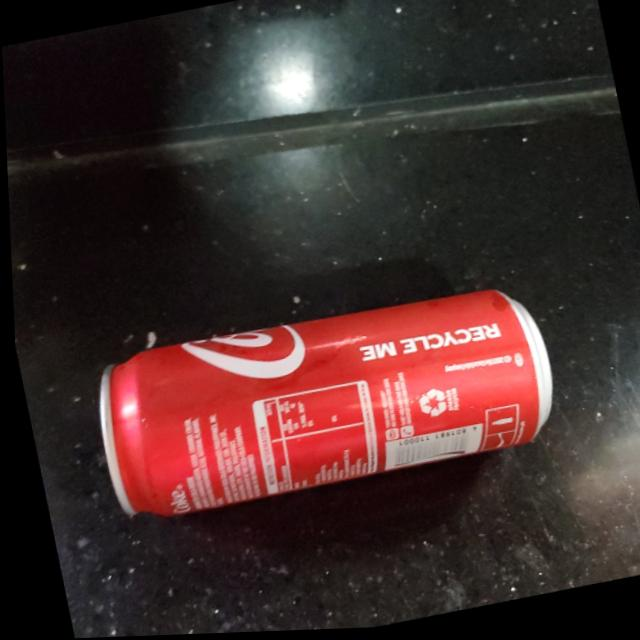coke: (79, 278, 556, 529)
